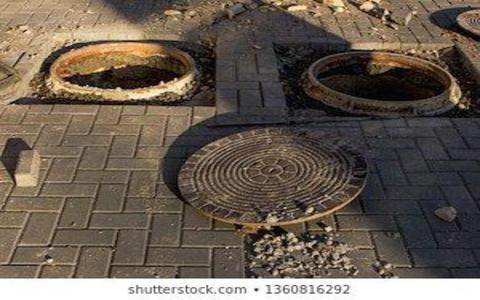open manhole: (15, 21, 215, 108), (283, 36, 467, 120)
